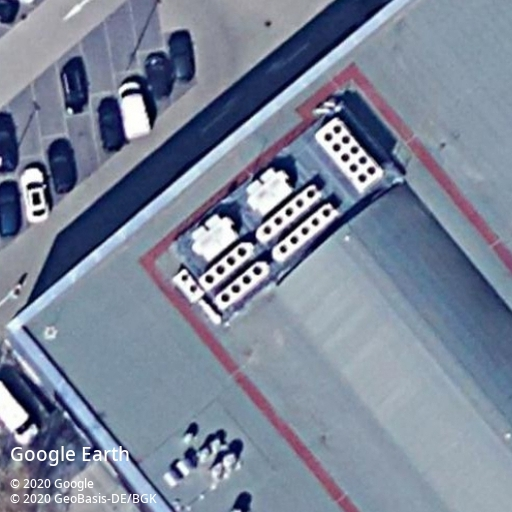Chiller: (315, 117, 383, 194), (271, 201, 339, 264), (255, 183, 321, 244), (199, 240, 255, 292), (214, 260, 271, 311), (172, 268, 203, 303)
